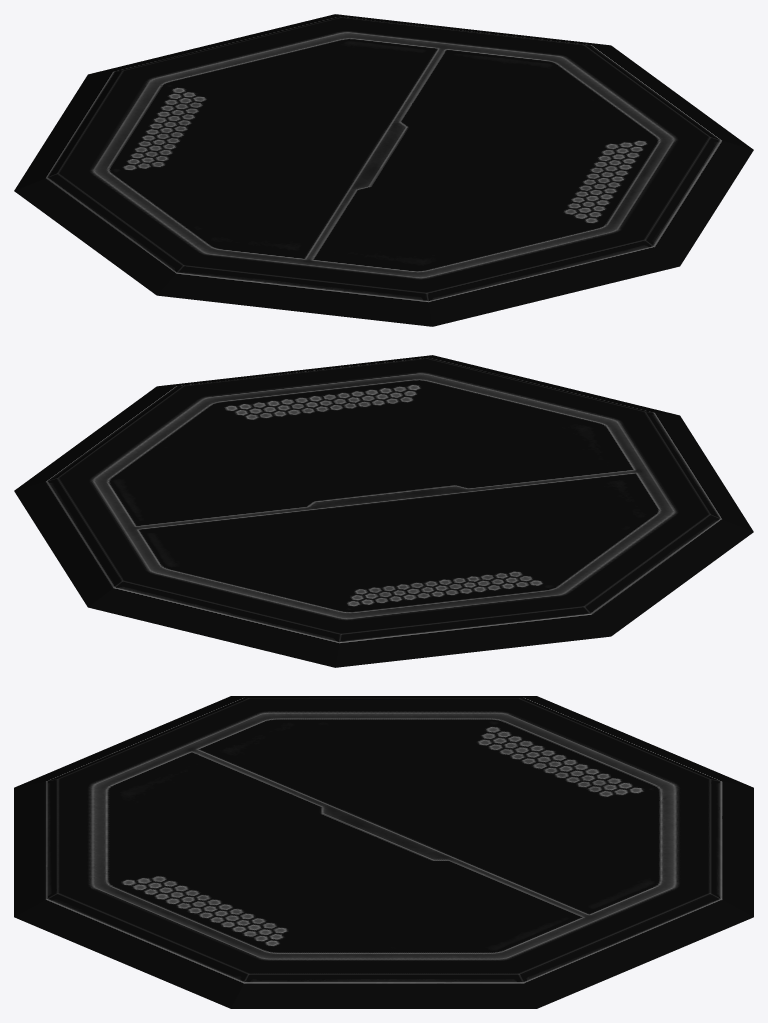
File: propManhole.glb
3 renders of one model, top to bottom at view 1: azimuth 30°, elevation 25°; view 2: azimuth 150°, elevation 25°; view 3: azimuth 270°, elevation 25°, orthographic. The views are drawn at different scales.
Parts seen in each view (by area): view 1: propManhole; view 2: propManhole; view 3: propManhole.
Part boxes in pixels (box(x1,y1,x2,y2)): propManhole: box(14, 14, 753, 326); propManhole: box(14, 355, 753, 667); propManhole: box(14, 696, 753, 1008).
Size of the model in its own units: 1.01 by 0.0245 by 1.01.
Materials: 1 (1 with a texture image).
